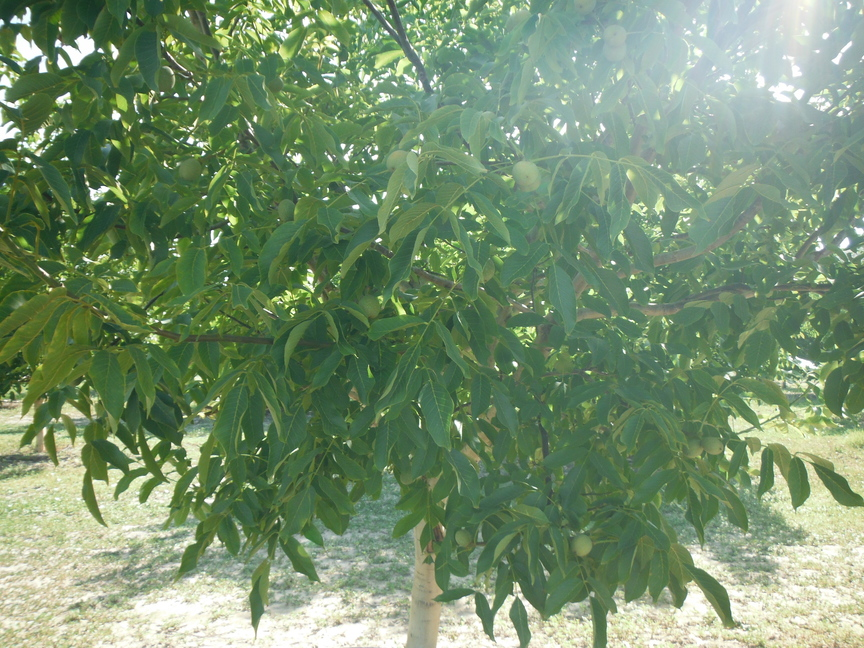walnut: (381, 143, 418, 178), (270, 194, 303, 229), (175, 153, 209, 186), (508, 155, 540, 188), (568, 528, 596, 561), (471, 253, 498, 287), (599, 20, 631, 48), (677, 433, 705, 465), (355, 291, 385, 320), (150, 63, 177, 95), (517, 168, 545, 196), (510, 7, 538, 35), (601, 40, 628, 68), (398, 459, 423, 489), (452, 524, 476, 553), (699, 434, 727, 458), (476, 106, 500, 133), (264, 71, 287, 96), (440, 91, 468, 111), (500, 10, 519, 37), (571, 0, 599, 17)
